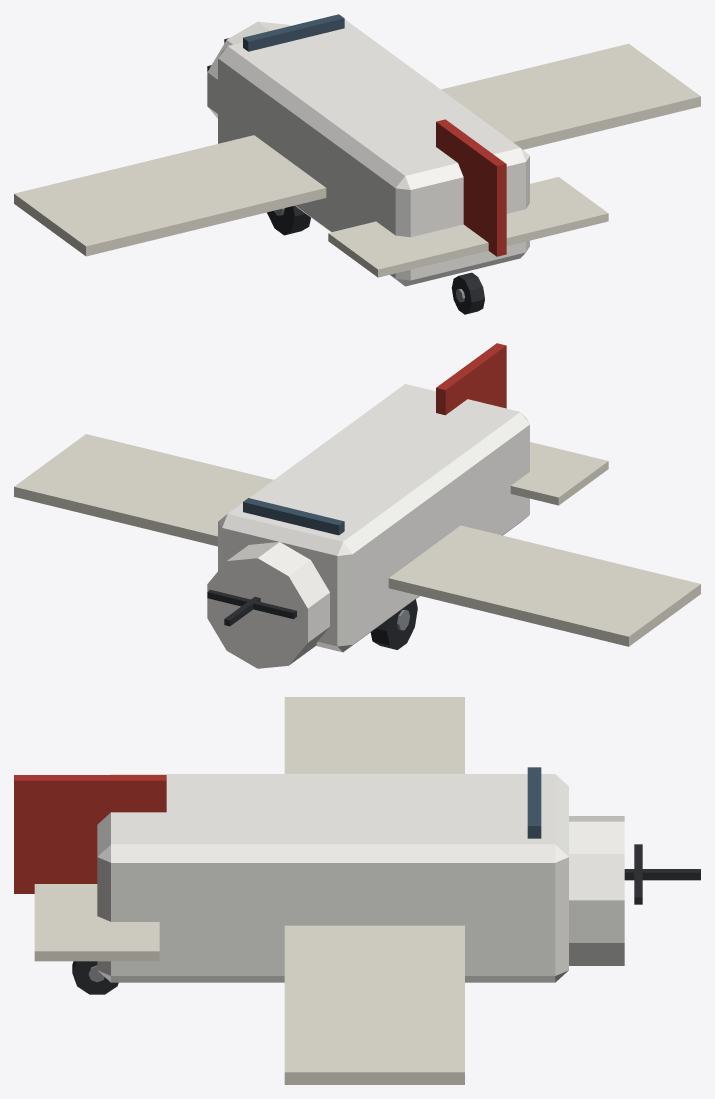
Rendered from vehicle.plane-small.glb.
3 renders of one model, top to bottom at view 1: azimuth 30°, elevation 25°; view 2: azimuth 150°, elevation 25°; view 3: azimuth 270°, elevation 25°, orthographic. The views are drawn at different scales.
Parts seen in each view (by area): view 1: vehicle.plane-small; view 2: vehicle.plane-small; view 3: vehicle.plane-small.
Part boxes in pixels (x1,y1,x2,y2): vehicle.plane-small: [14, 14, 700, 314]; vehicle.plane-small: [14, 343, 700, 668]; vehicle.plane-small: [14, 697, 700, 1084].
Bounding box in the file's own units: 6.4 × 1.69 × 4.95.
